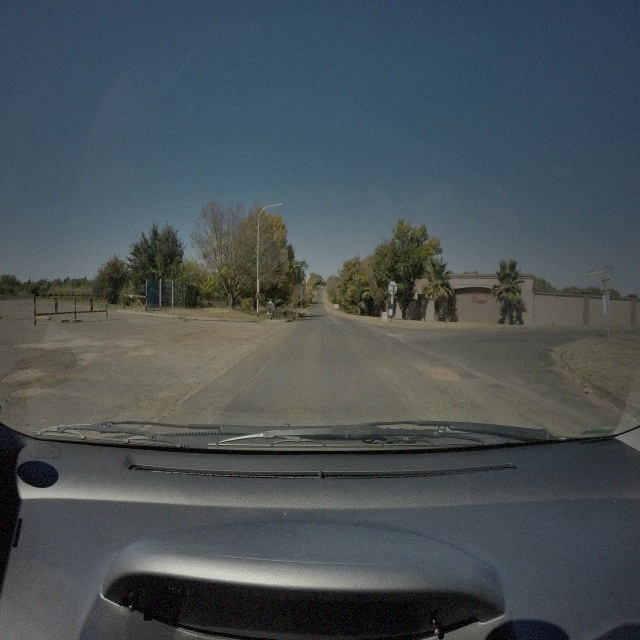pothole: (0, 366, 44, 385), (424, 366, 464, 385), (180, 324, 218, 344), (16, 357, 58, 367), (75, 359, 91, 369), (21, 381, 79, 382)
